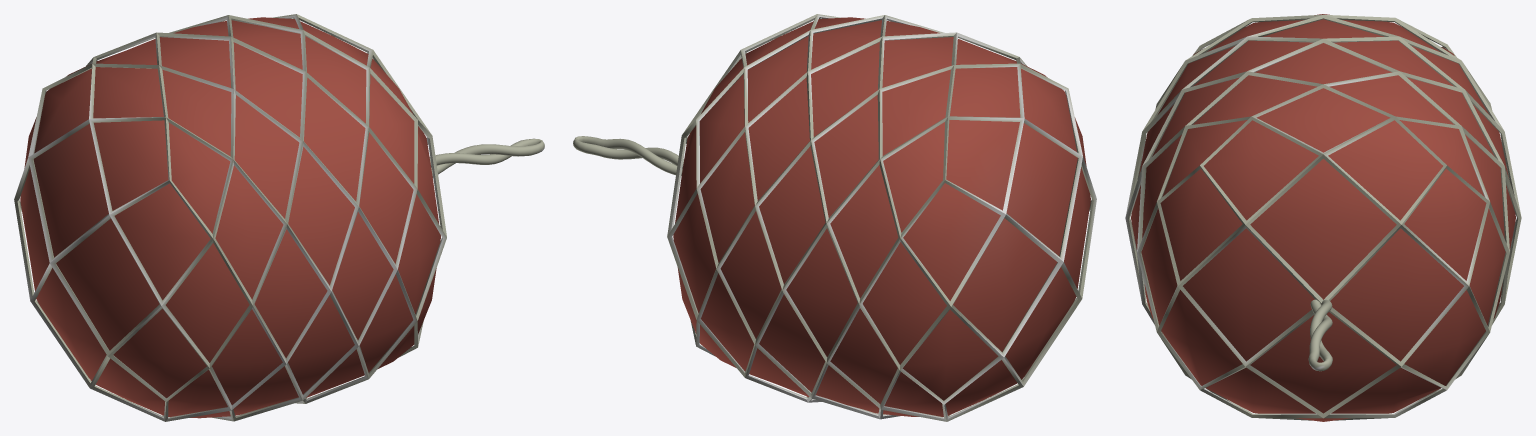
Rendered from Meat-Lombo.fbx.
3 renders of one model, left to right at view 1: azimuth 30°, elevation 25°; view 2: azimuth 150°, elevation 25°; view 3: azimuth 270°, elevation 25°, orthographic.
Parts seen in each view (by area): view 1: Meat-Lombo; view 2: Meat-Lombo; view 3: Meat-Lombo.
Boxes of the visible parts, <box> form: Meat-Lombo: <box>14,14,544,421</box>; Meat-Lombo: <box>573,14,1096,421</box>; Meat-Lombo: <box>1125,14,1521,421</box>.
Size of the model in its own units: 910 by 642 by 642.
